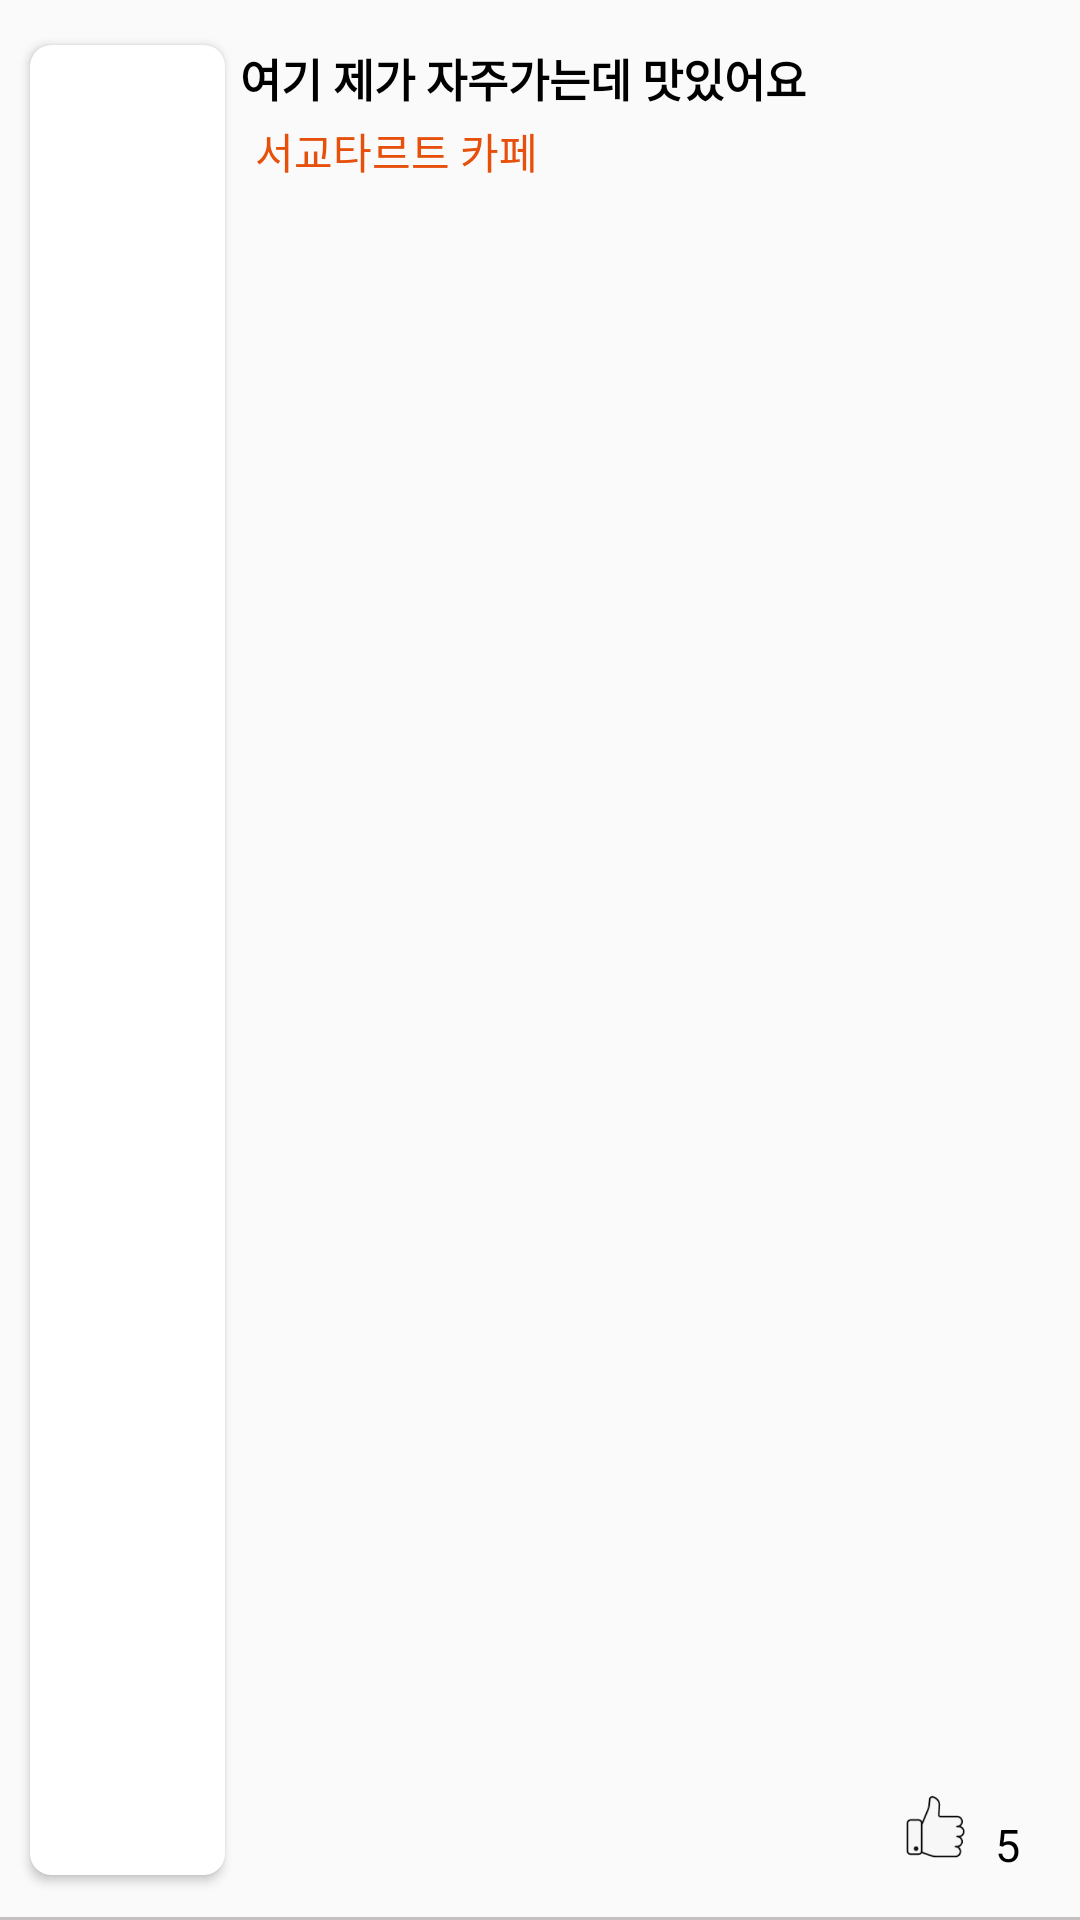

Named icons in this screenshot (1080w x 1920h) and their centers, (x=x, y=y):
thumb: (x=935, y=1827)
